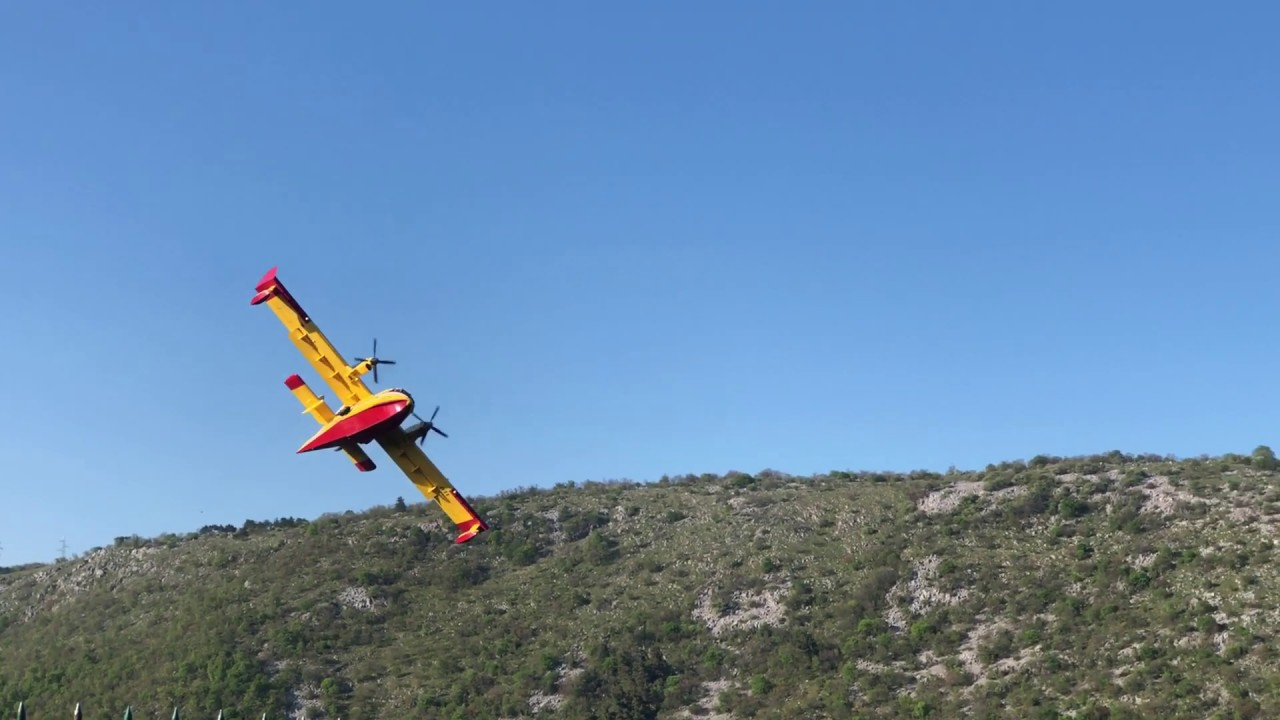plane: (248, 264, 489, 542)
